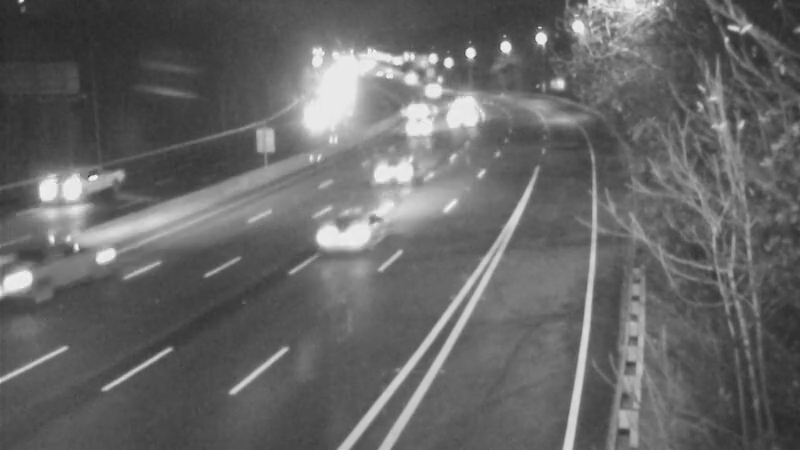vehicle: (350, 130, 430, 210), (287, 201, 367, 281), (23, 152, 103, 232), (1, 242, 73, 322), (435, 75, 485, 125), (392, 82, 442, 132), (436, 89, 486, 139), (396, 103, 446, 153)
